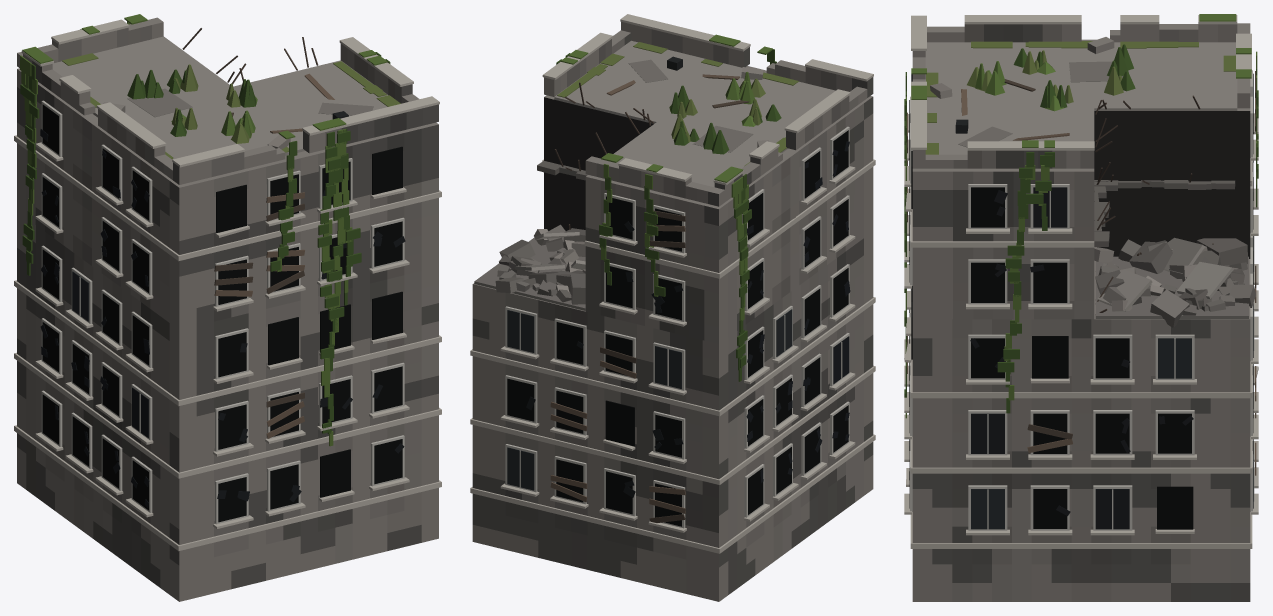
File: building_concrete_5f.glb
3 views of the same model, side by side, from view 1: azimuth 30°, elevation 25°; view 2: azimuth 150°, elevation 25°; view 3: azimuth 270°, elevation 25° (orthographic). The views are drawn at different scales.
Visible parts, largest first — view 1: building_concrete_5f; view 2: building_concrete_5f; view 3: building_concrete_5f.
Part boxes in pixels (left/top/right/bottom): building_concrete_5f: left=14, top=14, right=441, bottom=601; building_concrete_5f: left=470, top=14, right=875, bottom=601; building_concrete_5f: left=904, top=14, right=1258, bottom=601.
Size of the model in its own units: 12.7 by 19.6 by 13.64.
